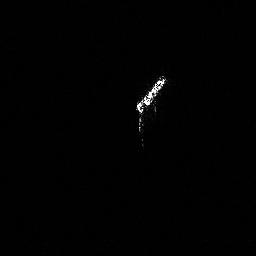ship: (132, 71, 171, 134)
